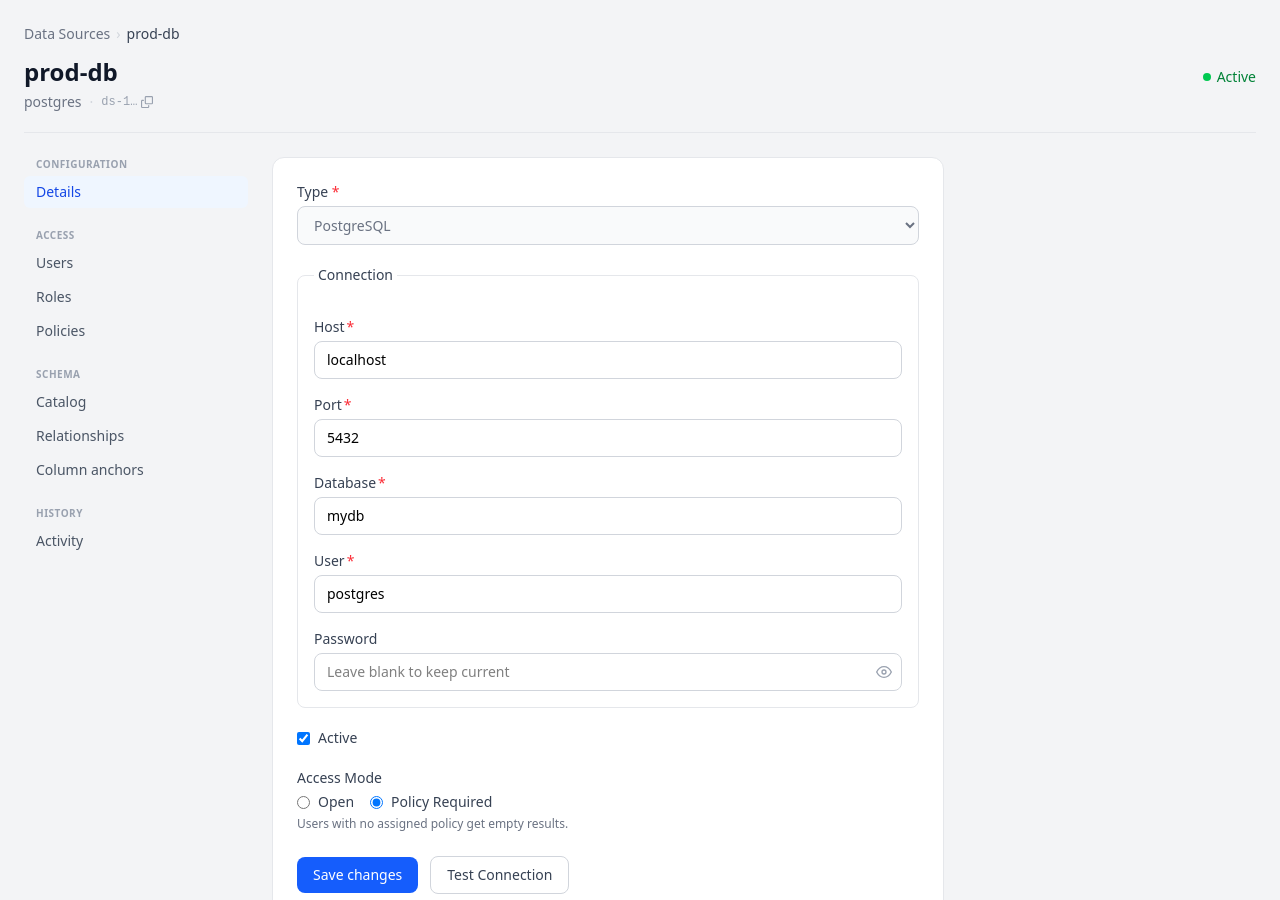
it: DataSourceEditPage › opens the Catalog section when its nav item is clicked
Expected: the button "Save changes" is shown, [297,857,418,893]
Click the button "Catalog" at (136, 402), box [24,386,248,418]
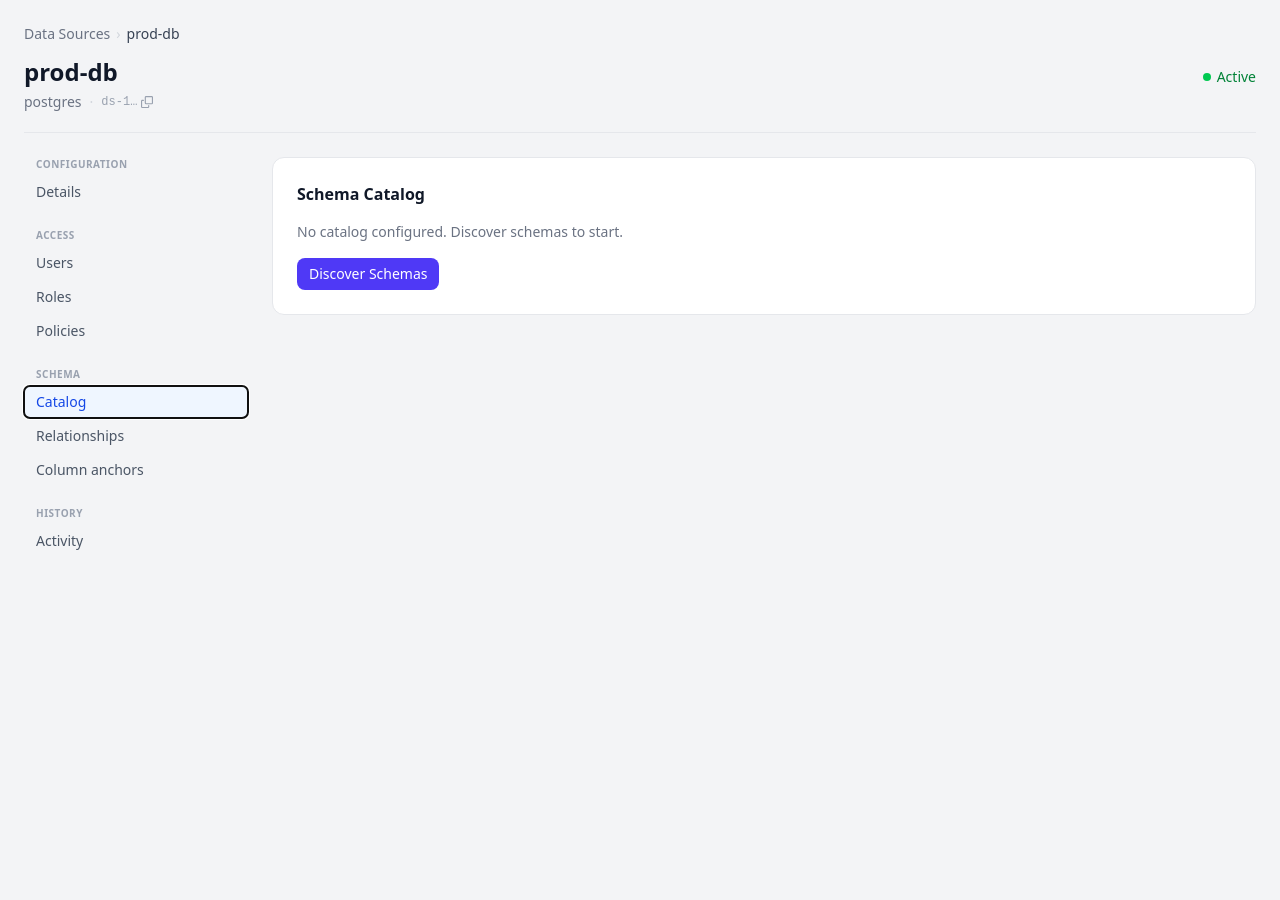
Now the button "Discover Schemas" is shown, box [297,258,440,290]
